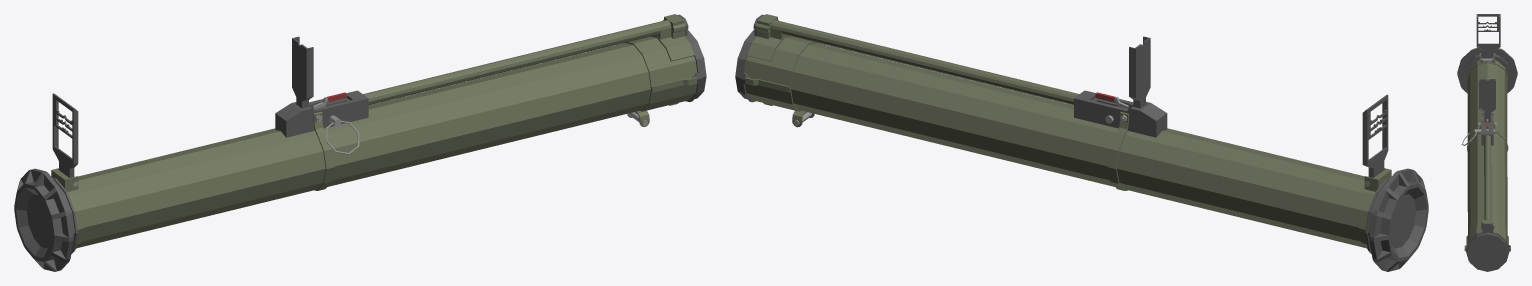
The model's file is w_rpg.glb.
3 views of the same model, side by side, from view 1: azimuth 30°, elevation 25°; view 2: azimuth 150°, elevation 25°; view 3: azimuth 270°, elevation 25° (orthographic). The views are drawn at different scales.
Parts seen in each view (by area): view 1: hull; view 2: hull; view 3: hull.
Part boxes in pixels (x1,y1,x2,y2): hull: (14, 14, 706, 271); hull: (735, 14, 1428, 271); hull: (1457, 14, 1517, 271).
Size of the model in its own units: 0.95 by 0.2249 by 0.1321.
